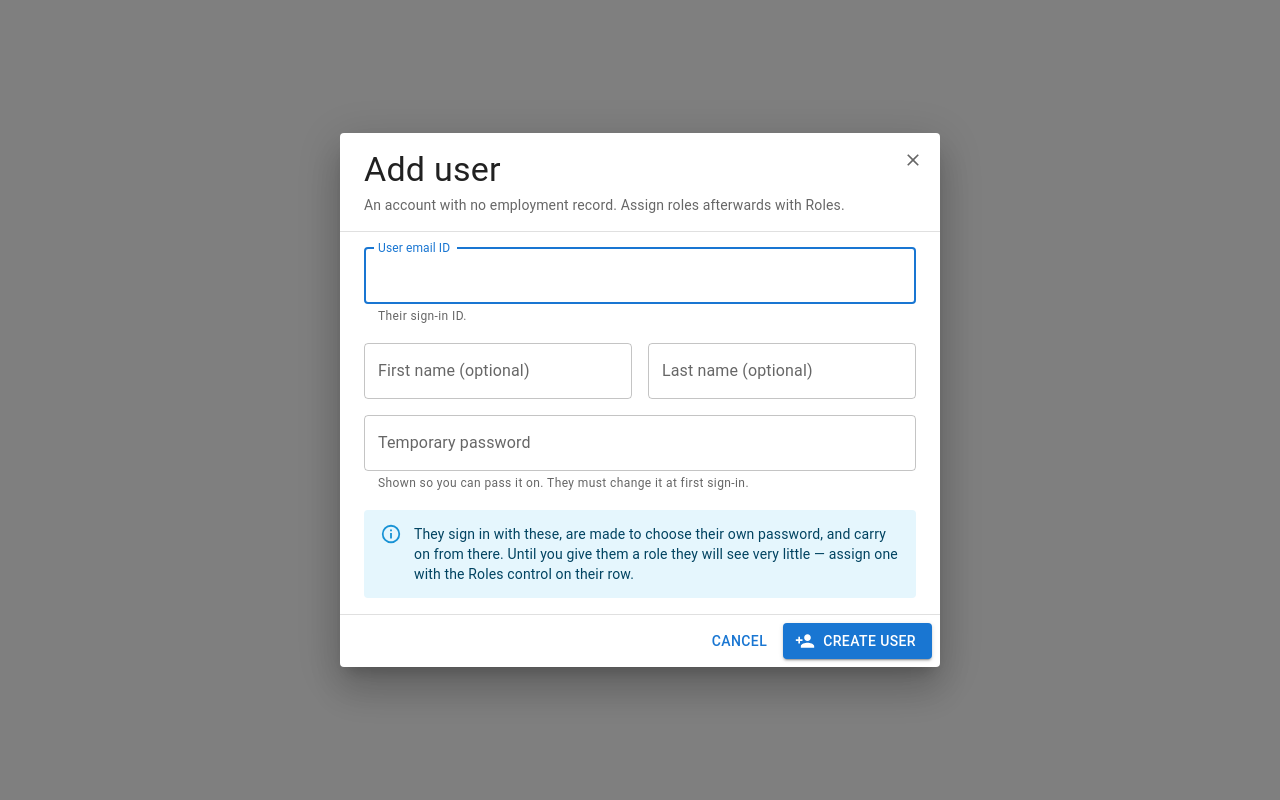
Scenario: AddUserDialog › will not submit without an email
Type "Welcome@2026" into the field labelled "Temporary password" at [640, 443], box [364,415,916,471]
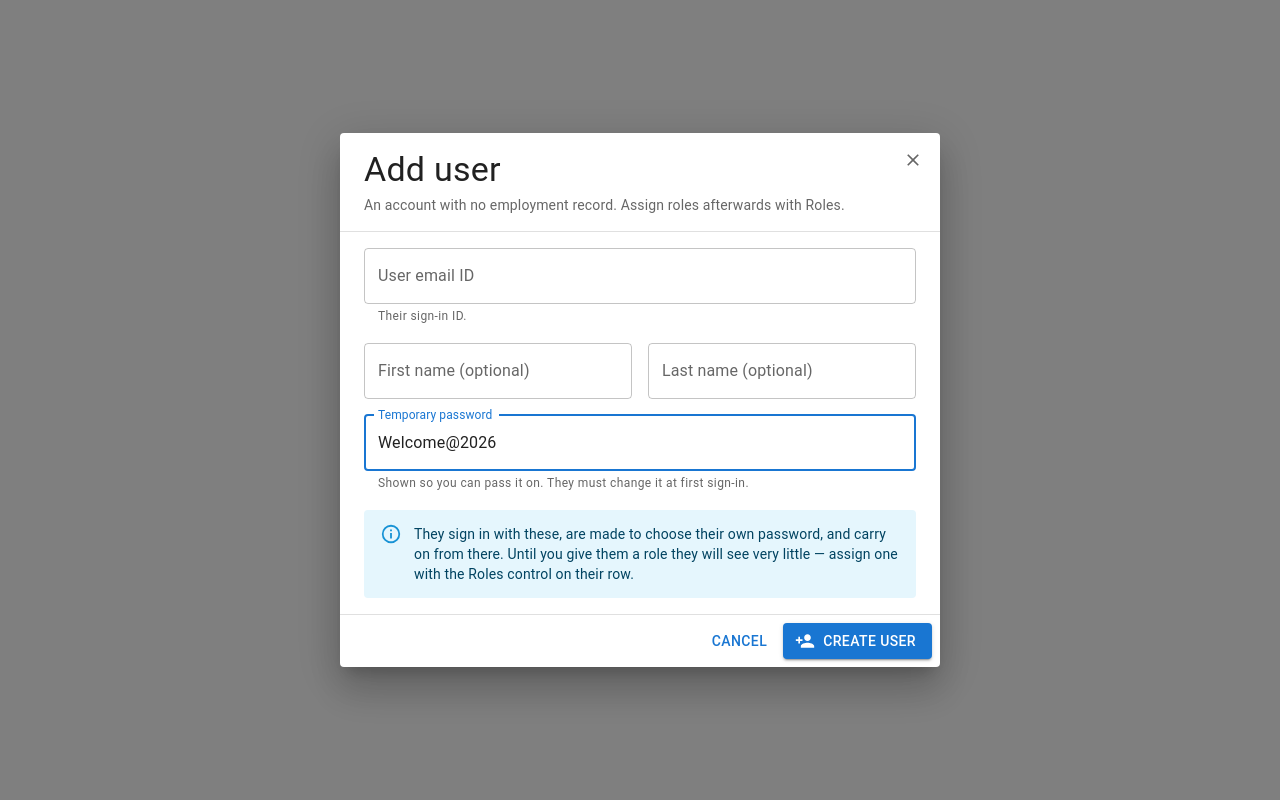
Click the button "Create user" at [858, 641], box [783,623,932,659]
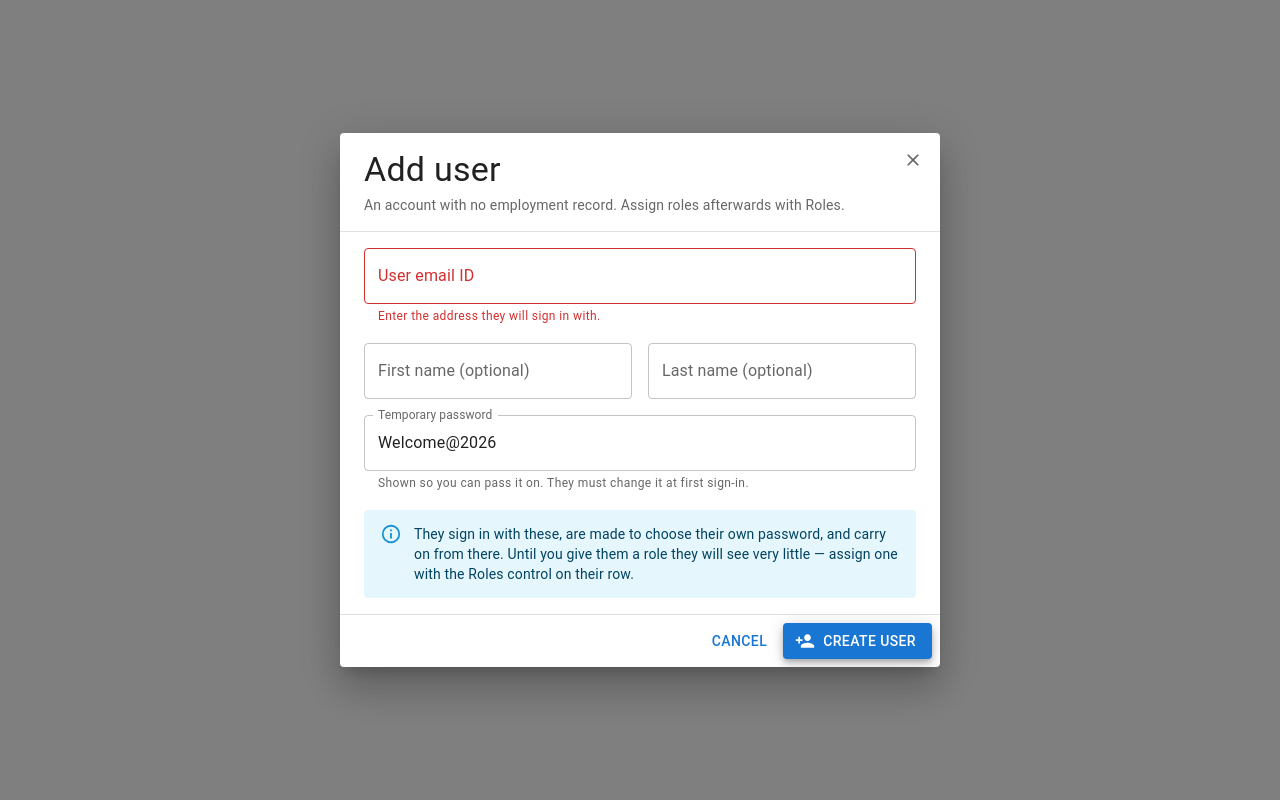
Now the text "Enter the address they will sign in with." is shown, box [378,309,601,323]
